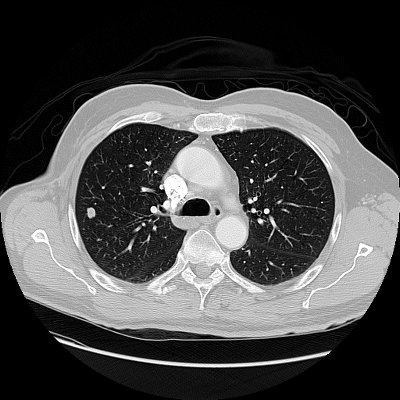nodule: (86, 208, 96, 218)
